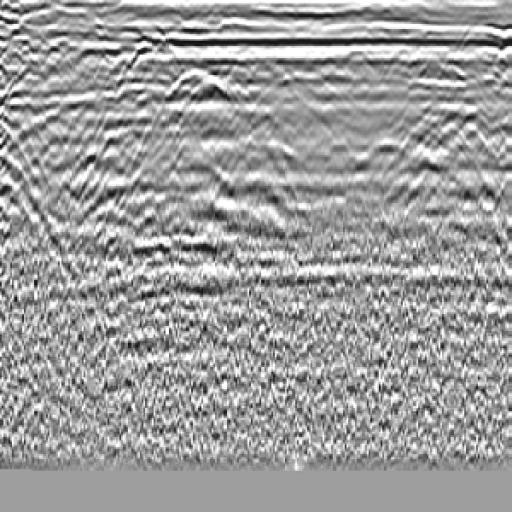metalic: (162, 63, 256, 123)
